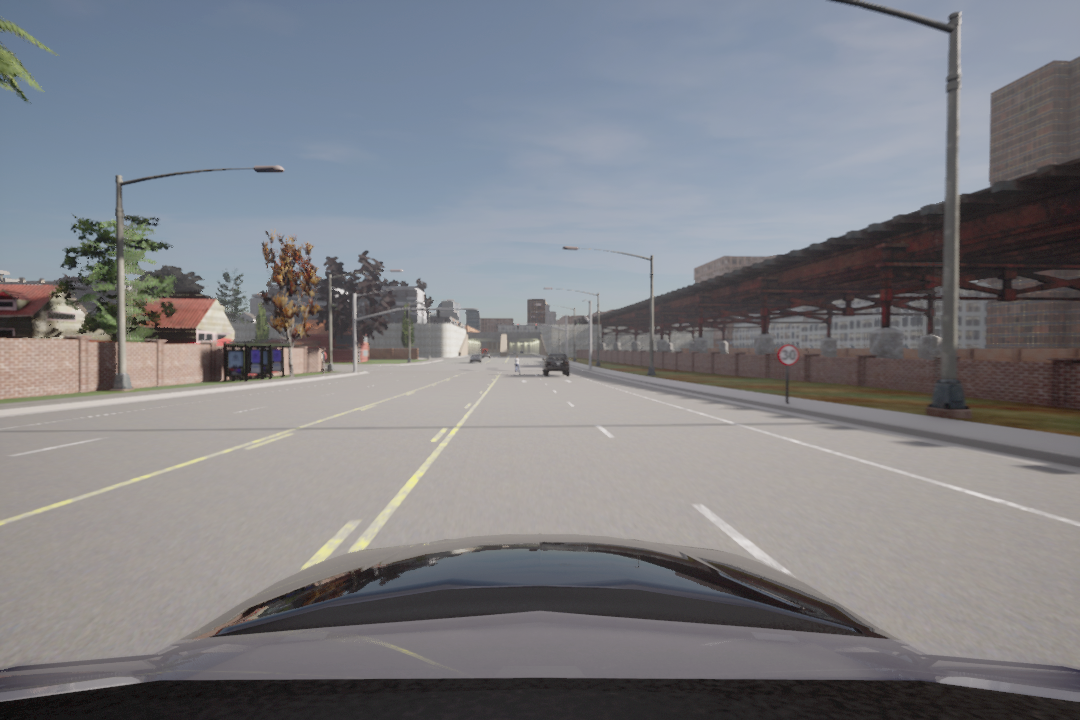TrafficSign_speed: (777, 346, 801, 365)
